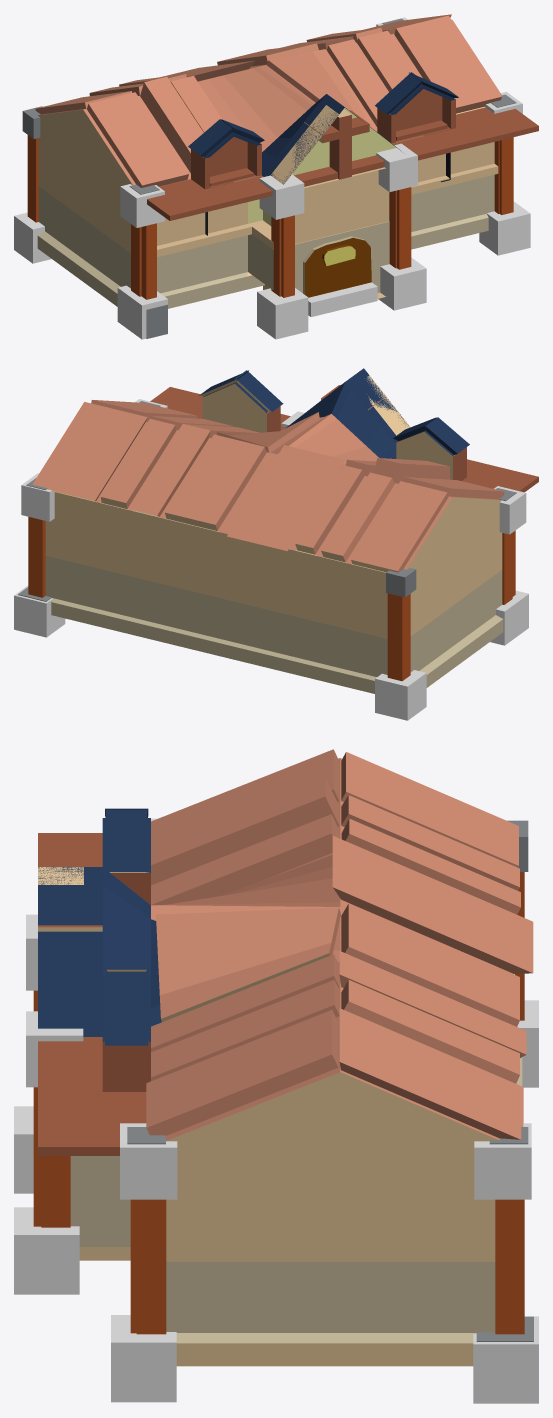
The picture shows the model from 3 angles, top to bottom: view 1: azimuth 30°, elevation 25°; view 2: azimuth 150°, elevation 25°; view 3: azimuth 270°, elevation 25°; orthographic projection. The views are drawn at different scales.
Parts seen in each view (by area): view 1: Cube, Cube.002, Cube.003, Cube.004, Cube.008, Cube.009, Cube.001, Cube.007, Cube.006; view 2: Cube, Cube.006, Cube.005, Cube.001, Cube.011, Cube.007; view 3: Cube, Cube.004, Cube.003, Cube.005, Cube.010, Cube.011, Cube.002, Cube.009, Cube.006, Cube.008.
Part boxes in pixels (x1,y1,x2,y2): Cube: (22,14,538,338); Cube.002: (257,288,308,339); Cube.003: (378,257,426,310); Cube.004: (479,201,530,255); Cube.008: (259,174,304,219); Cube.009: (376,143,417,192); Cube.001: (117,285,167,339); Cube.007: (120,184,164,227); Cube.006: (14,212,51,263); Cube: (18,368,538,693); Cube.006: (375,670,426,720); Cube.005: (14,585,65,637); Cube.001: (490,590,528,645); Cube.011: (21,473,54,521); Cube.007: (494,486,526,534); Cube: (33,749,533,1366); Cube.004: (111,1315,176,1402); Cube.003: (14,1207,79,1294); Cube.005: (473,1316,538,1403); Cube.010: (120,1123,177,1199); Cube.011: (474,1123,531,1199); Cube.002: (14,1106,33,1193); Cube.009: (26,1011,83,1087); Cube.006: (517,1000,538,1087); Cube.008: (26,914,37,990).
Bounding box in the file's own units: 6314 × 3194 × 4177.
